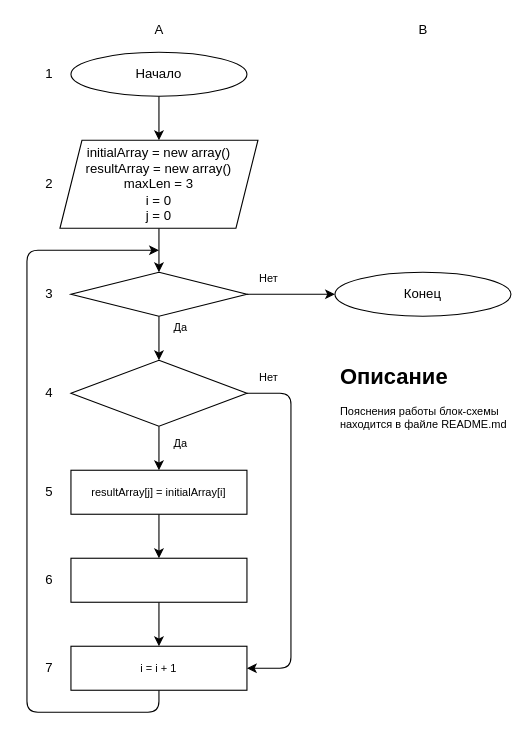
This 530x740 diagram has some shape labels left out. The shapes that lost their labels are listed below. From the top down, each one's centre as x and y in pixels, then its label:
At (x=158, y=293): "i < initialArray.Length".
At (x=158, y=392): "initialArray[i].Length <= maxLen".
At (x=158, y=579): "j = j + 1".
